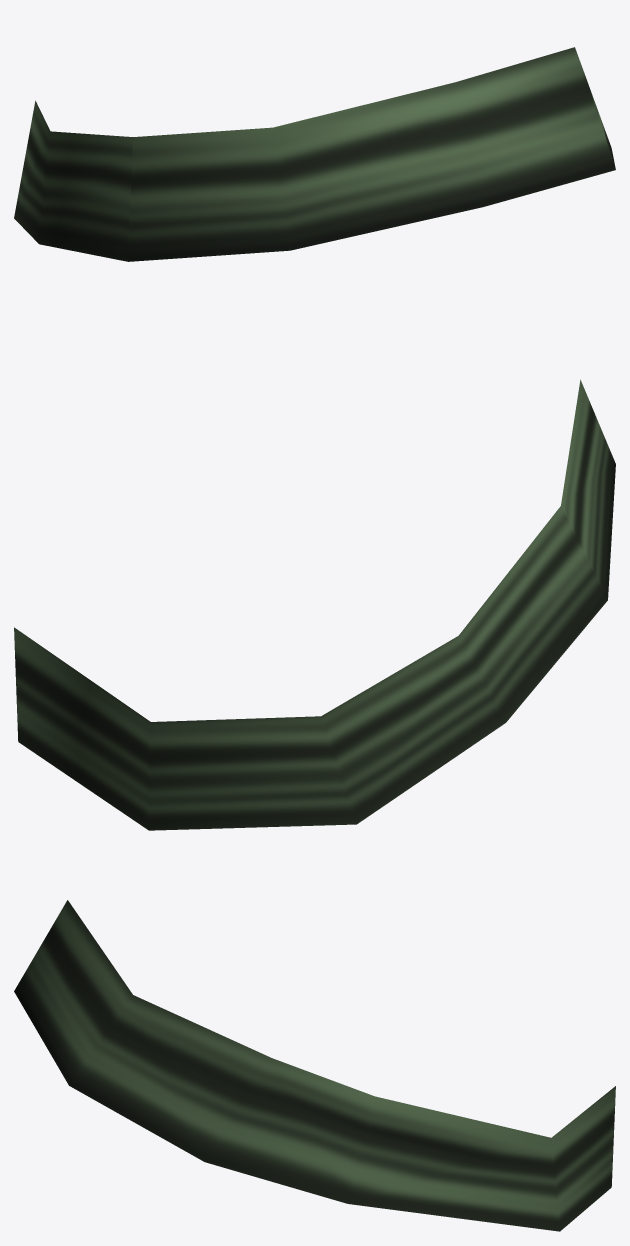
The model's file is bandana_green.glb.
The picture shows the model from 3 angles, top to bottom: view 1: azimuth 30°, elevation 25°; view 2: azimuth 150°, elevation 25°; view 3: azimuth 270°, elevation 25°; orthographic projection. The views are drawn at different scales.
Parts seen in each view (by area): view 1: Bandana; view 2: Bandana; view 3: Bandana.
Boxes of the visible parts, x1,y1,x2,y2 form: Bandana: (14, 47, 615, 261); Bandana: (14, 379, 615, 830); Bandana: (14, 900, 615, 1231).
Bounding box in the file's own units: 0.1856 × 0.1165 × 0.2224.
Materials: 1 (1 with a texture image).
